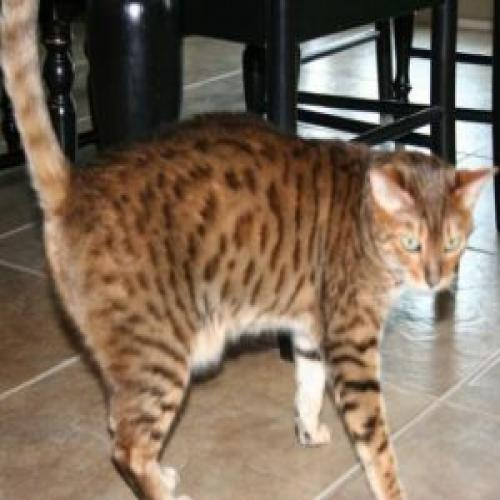cat-face: (351, 145, 500, 320)
